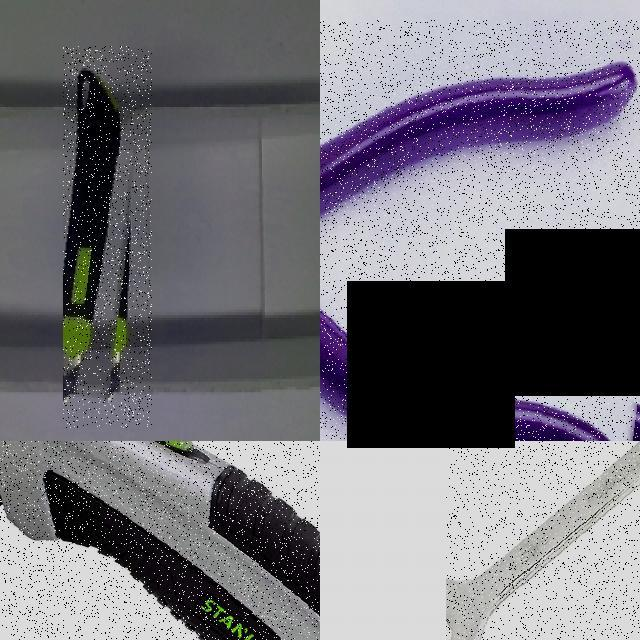estilete: (63, 72, 120, 397)
